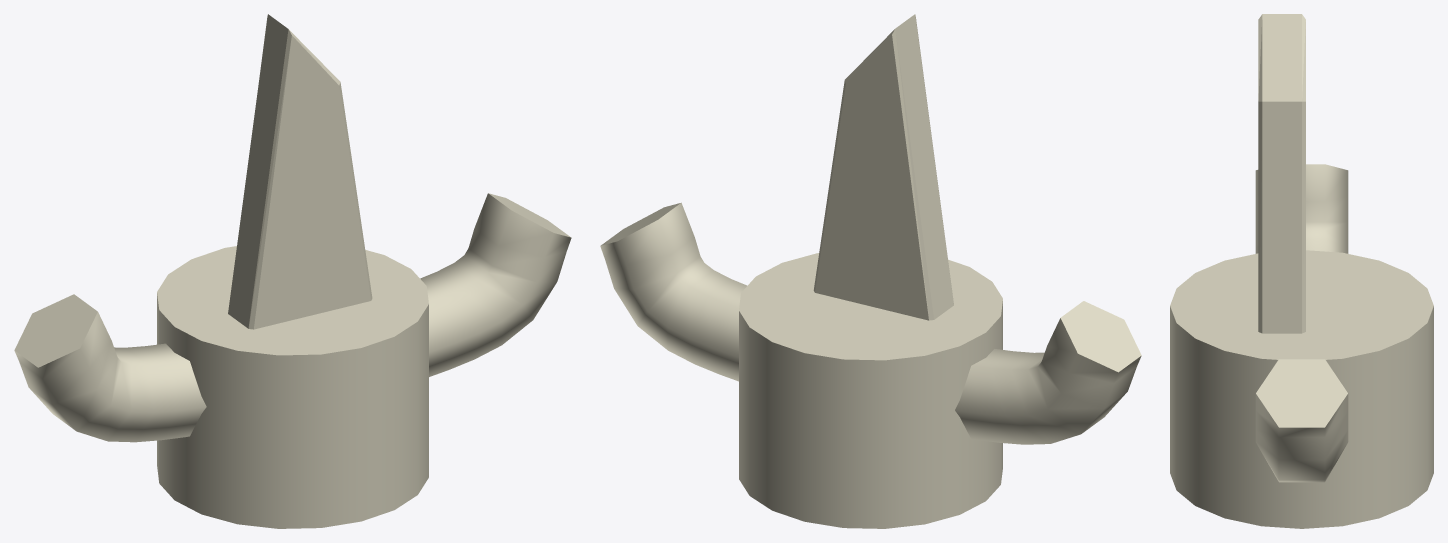
Rendered from prehistoric-expedition-sites-vertebra-fragment-bb3fc99e__26108.glb.
3 renders of one model, left to right at view 1: azimuth 30°, elevation 25°; view 2: azimuth 150°, elevation 25°; view 3: azimuth 270°, elevation 25°, orthographic. The views are drawn at different scales.
Visible parts, largest first — view 1: vertebra-fragment; view 2: vertebra-fragment; view 3: vertebra-fragment.
Boxes of the visible parts, <box> form: vertebra-fragment: <box>14,14,571,528</box>; vertebra-fragment: <box>600,14,1141,528</box>; vertebra-fragment: <box>1170,14,1433,528</box>.
Bounding box in the file's own units: 0.4504 × 0.3741 × 0.2.
